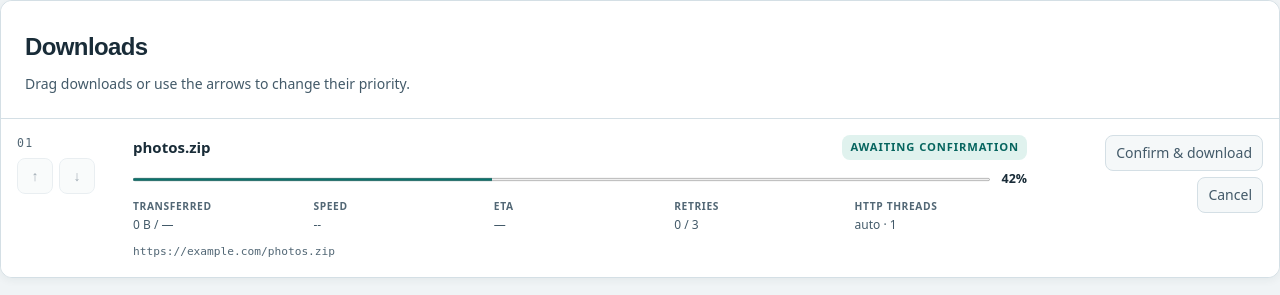
Test: DownloadManager › reports confirmation failures and keeps the action available
The width and height of the screenshot is (1280, 295).
Click the button "Confirm & download". click: (1184, 153)
box: left=1105, top=135, right=1263, bottom=171
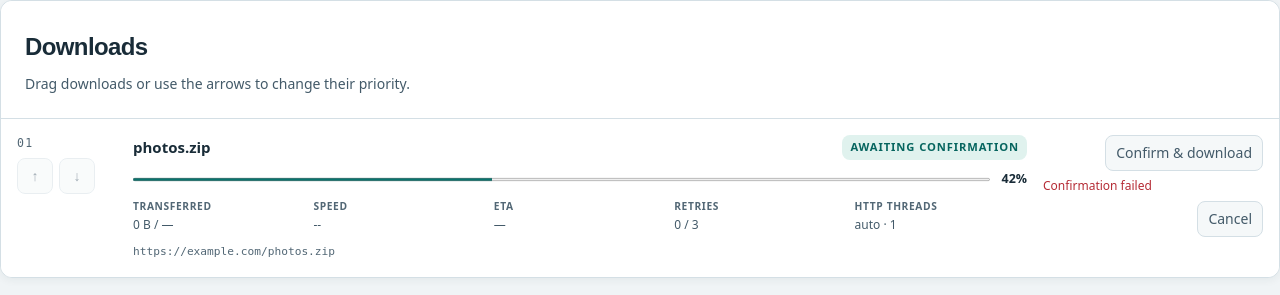
Check: the message "Confirmation failed" is shown, box left=1043, top=177, right=1152, bottom=194
